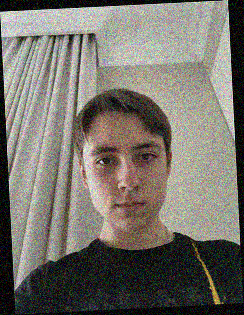without_mask: (85, 137, 168, 233)
